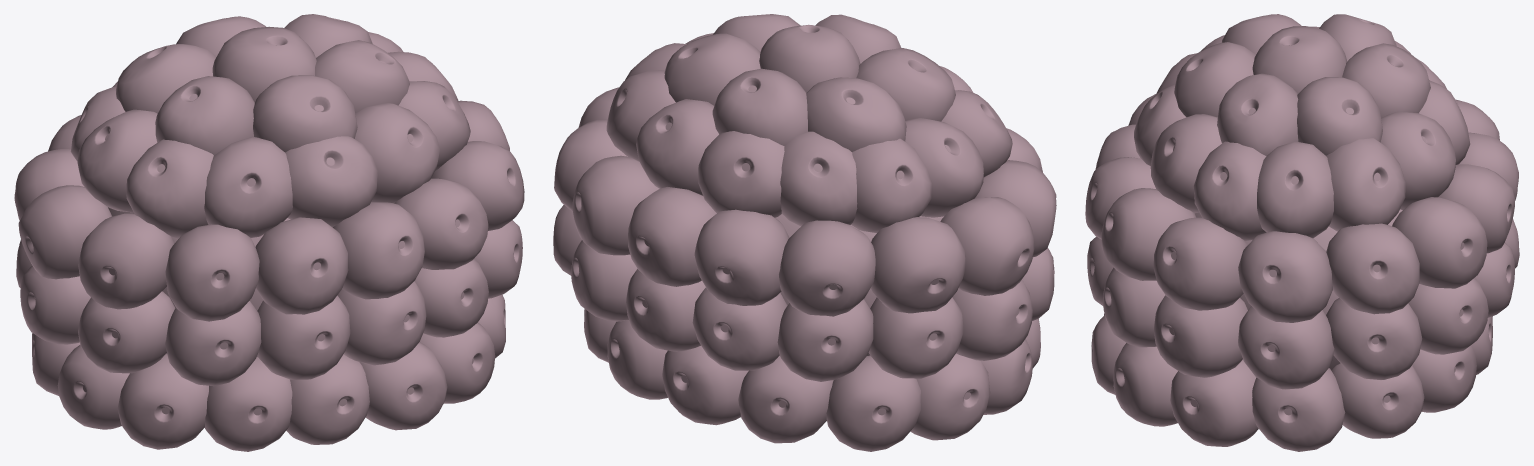
Rendered from Coral_Montastrea.fbx.
3 renders of one model, left to right at view 1: azimuth 30°, elevation 25°; view 2: azimuth 150°, elevation 25°; view 3: azimuth 270°, elevation 25°, orthographic.
Visible parts, largest first — view 1: Coral_Montastrea1; view 2: Coral_Montastrea1, FondoCoral; view 3: Coral_Montastrea1, FondoCoral.
Part boxes in pixels (left/top/right/bottom): Coral_Montastrea1: left=14, top=14, right=524, bottom=451; Coral_Montastrea1: left=553, top=14, right=1056, bottom=451; FondoCoral: left=775, top=214, right=943, bottom=355; Coral_Montastrea1: left=1085, top=14, right=1519, bottom=451; FondoCoral: left=1195, top=209, right=1402, bottom=370.
Size of the model in its own units: 5.54 by 4.02 by 4.64.
